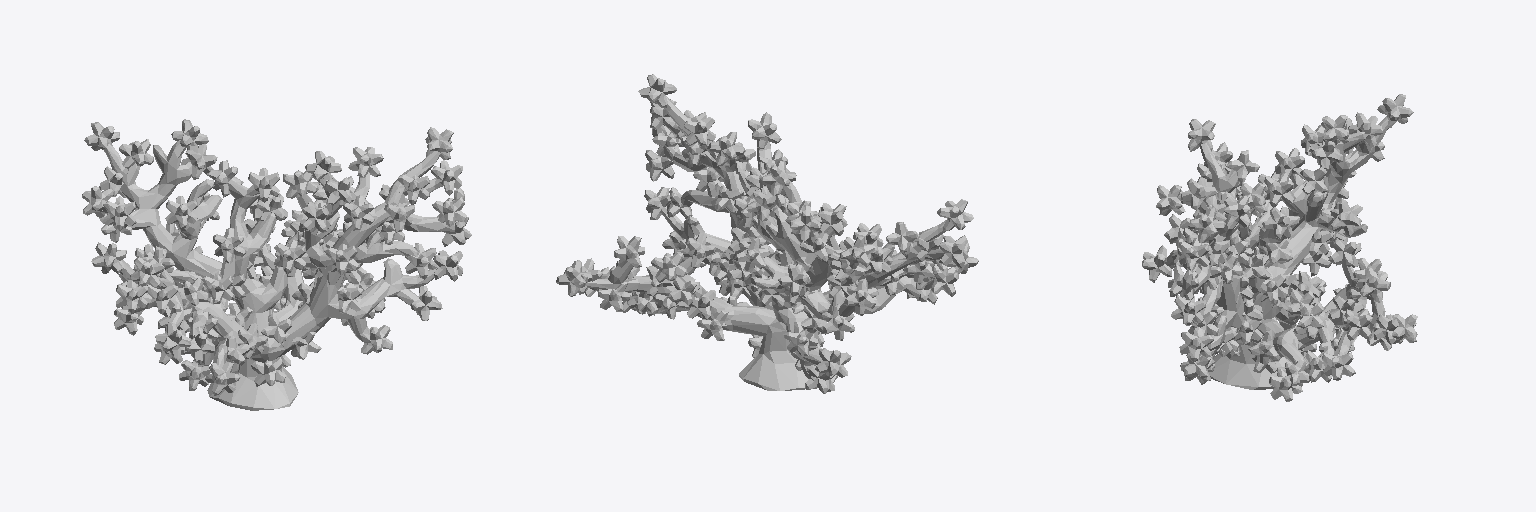
The model's file is Coral_9866.obj.
The picture shows the model from 3 angles: view 1: azimuth 30°, elevation 25°; view 2: azimuth 150°, elevation 25°; view 3: azimuth 270°, elevation 25°; orthographic projection.
Visible parts, largest first — view 1: 21488_Tree_Coral_v2_NEW; view 2: 21488_Tree_Coral_v2_NEW; view 3: 21488_Tree_Coral_v2_NEW.
Boxes of the visible parts, <box> form: 21488_Tree_Coral_v2_NEW: <box>82,119,471,410</box>; 21488_Tree_Coral_v2_NEW: <box>556,74,978,393</box>; 21488_Tree_Coral_v2_NEW: <box>1142,94,1417,401</box>.
Bounding box in the file's own units: 0.9891 × 0.6873 × 0.7044.